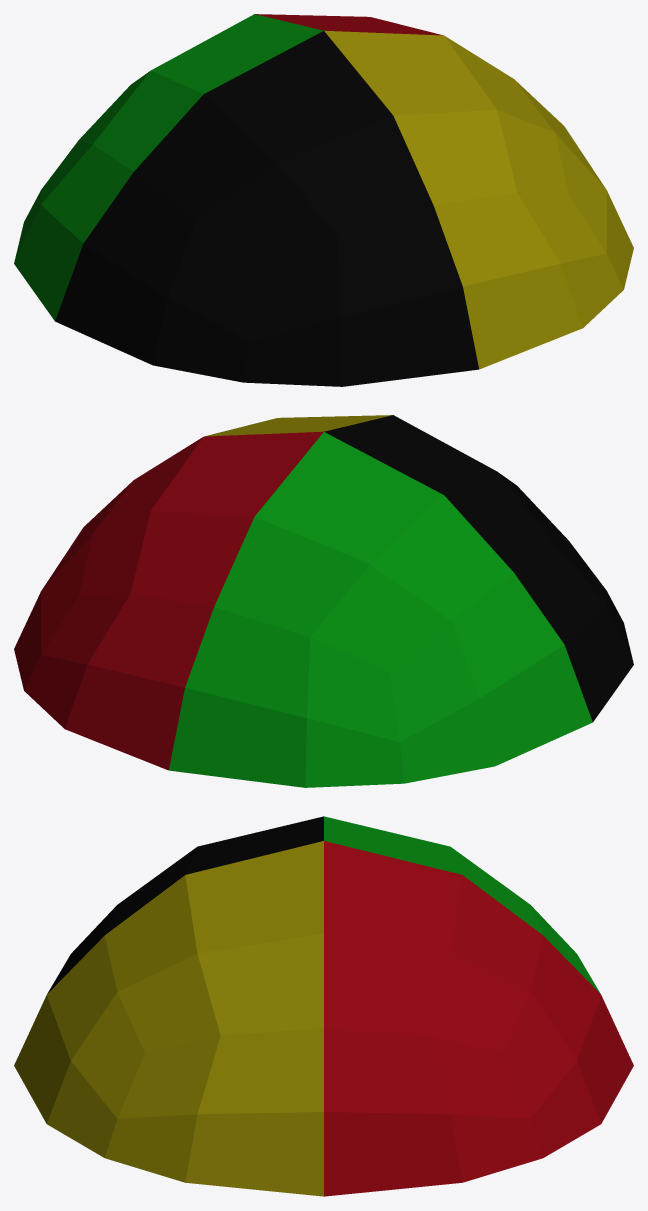
The model's file is Four_Side_Color_Panel.fbx.
The picture shows the model from 3 angles, top to bottom: view 1: azimuth 30°, elevation 25°; view 2: azimuth 150°, elevation 25°; view 3: azimuth 270°, elevation 25°; orthographic projection.
Visible parts, largest first — view 1: Cube; view 2: Cube; view 3: Cube.
Part boxes in pixels (<box>): Cube: <box>14,14,633,386</box>; Cube: <box>14,415,633,787</box>; Cube: <box>14,816,633,1196</box>.
Size of the model in its own units: 50 by 20 by 50.
